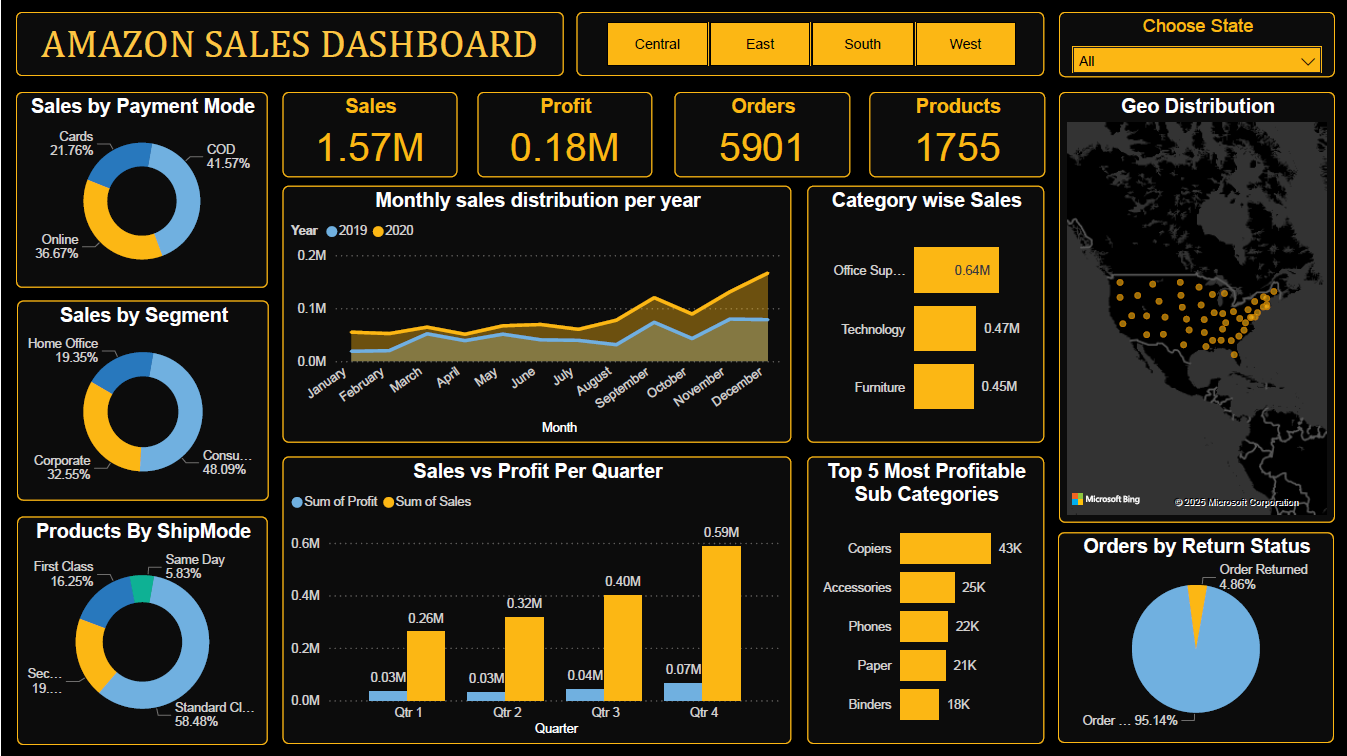

Layout of this report page (visuals, bound fields, positions):
{"tool":"powerbi","page":{"name":"Dashboard 1","canvas":[1280,720],"ordinal":0},"visuals":[{"type":"clusteredBarChart","title":"Category wise Sales","fields":{"Category":["Amazon Store Sales Data.Category"],"Y":["Sum(Amazon Store Sales Data.Sales)"]},"box":[764.9,176.1,225.6,243.7],"z":0},{"type":"clusteredBarChart","title":"Top 5 Most Profitable Sub Categories","fields":{"Y":["Sum(Amazon Store Sales Data.Profit)"],"Category":["Amazon Store Sales Data.Sub-Category"]},"box":[764.9,433.1,225.6,272.7],"z":1000},{"type":"donutChart","title":"Products By ShipMode","fields":{"Y":["CountNonNull(Amazon Store Sales Data.Product ID)"],"Category":["Amazon Store Sales Data.Ship Mode"]},"box":[14.5,490,238.2,217.3],"z":2000},{"type":"donutChart","title":"Sales by Segment","fields":{"Y":["Sum(Amazon Store Sales Data.Sales)"],"Category":["Amazon Store Sales Data.Segment"]},"box":[14.5,284.5,239.1,190.9],"z":3000},{"type":"areaChart","title":"Monthly sales distribution per year","fields":{"Y":["Sum(Amazon Store Sales Data.Sales)"],"Category":["Amazon Store Sales Data.Order Date.Variation.Date Hierarchy.Month"],"Series":["Amazon Store Sales Data.Order Date.Variation.Date Hierarchy.Year"]},"box":[266.6,176.1,483.8,243.7],"z":4000},{"type":"clusteredColumnChart","title":"Sales vs Profit Per Quarter","fields":{"Category":["Amazon Store Sales Data.Order Date.Variation.Date Hierarchy.Quarter"],"Y":["Sum(Amazon Store Sales Data.Profit)","Sum(Amazon Store Sales Data.Sales)"]},"box":[266.6,433.1,483.8,272.7],"z":5000},{"type":"map","title":"Geo Distribution","fields":{"Category":["Amazon Store Sales Data.State"]},"box":[1003.8,86.9,262.3,409.2],"z":6000},{"type":"donutChart","title":"Sales by Payment Mode","fields":{"Category":["Amazon Store Sales Data.Payment Mode"],"Y":["CountNonNull(Amazon Store Sales Data.Order ID)"]},"box":[14.3,87.1,238.6,185.7],"z":7000},{"type":"pieChart","title":"Orders by Return Status","fields":{"Y":["CountNonNull(Amazon Store Sales Data.Order ID)"],"Category":["Amazon Store Sales Data.Return Status"]},"box":[1003.1,505.4,262.3,200],"z":8000},{"type":"textbox","box":[14.5,10.9,520,61.5],"z":9000},{"type":"card","title":"Sales","fields":{"Values":["Sum(Amazon Store Sales Data.Sales)"]},"box":[266.9,86.9,166.2,81.5],"z":10000},{"type":"card","title":"Profit","fields":{"Values":["Sum(Amazon Store Sales Data.Profit)"]},"box":[451.5,86.9,166.2,81.5],"z":11000},{"type":"card","title":"Orders","fields":{"Values":["CountNonNull(Amazon Store Sales Data.Order ID)"]},"box":[639.2,86.9,166.9,81.5],"z":12000},{"type":"card","title":"Products","fields":{"Values":["Count(Amazon Store Sales Data.Product ID)"]},"box":[823.8,86.9,166.9,81.5],"z":13000},{"type":"slicer","fields":{"Values":["Amazon Store Sales Data.Region"]},"box":[546.2,10.8,443.8,61.5],"z":14000},{"type":"slicer","title":"Choose State","fields":{"Values":["Amazon Store Sales Data.State"]},"box":[1003.6,10.9,262.7,61.8],"z":15000}]}

Visuals, with their boxes in screenshot pixels (x1, y1, x2, y2), scaled from the page's 1280x720 canvas onto the 1347x756 screenshot:
"Category wise Sales" clusteredBarChart: detection(805, 185, 1042, 441)
"Top 5 Most Profitable Sub Categories" clusteredBarChart: detection(805, 455, 1042, 741)
"Products By ShipMode" donutChart: detection(15, 514, 266, 743)
"Sales by Segment" donutChart: detection(15, 299, 267, 499)
"Monthly sales distribution per year" areaChart: detection(281, 185, 790, 441)
"Sales vs Profit Per Quarter" clusteredColumnChart: detection(281, 455, 790, 741)
"Geo Distribution" map: detection(1056, 91, 1332, 521)
"Sales by Payment Mode" donutChart: detection(15, 91, 266, 286)
"Orders by Return Status" pieChart: detection(1056, 531, 1332, 741)
textbox: detection(15, 11, 562, 76)
"Sales" card: detection(281, 91, 456, 177)
"Profit" card: detection(475, 91, 650, 177)
"Orders" card: detection(673, 91, 848, 177)
"Products" card: detection(867, 91, 1043, 177)
slicer - Amazon Store Sales Data.Region: detection(575, 11, 1042, 76)
"Choose State" slicer: detection(1056, 11, 1333, 76)
